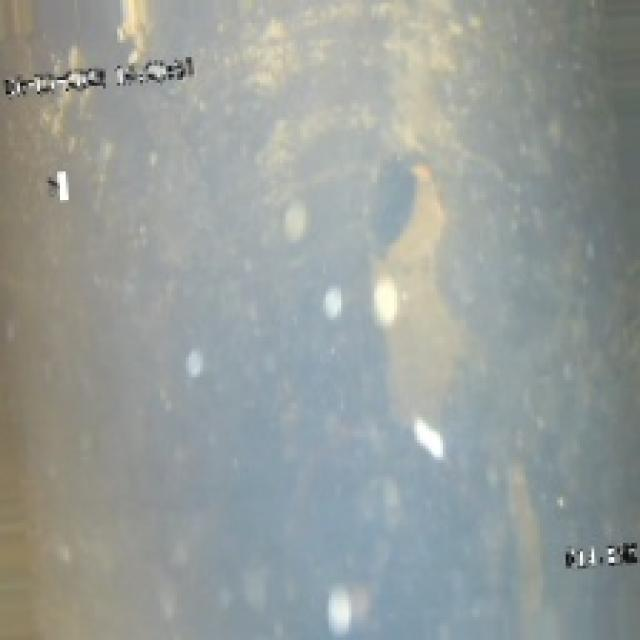pipe_surface_damage: (360, 128, 457, 392)
